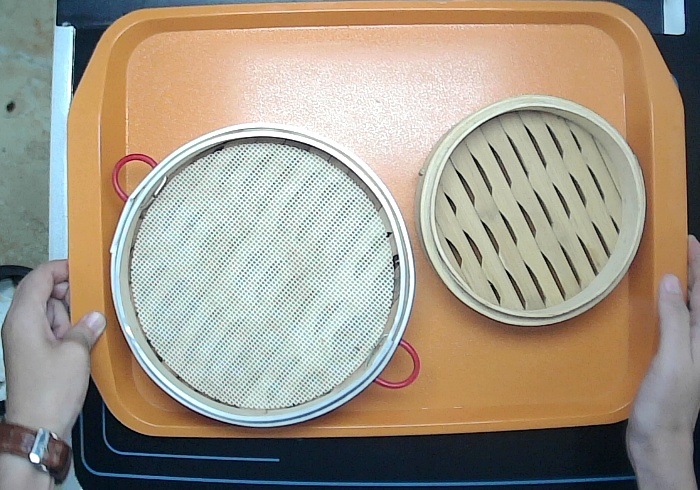ZNLD-Da_Zheng_Long: (107, 119, 422, 428)
ZNLD-Xiao_Zheng_Long: (411, 92, 648, 328)
